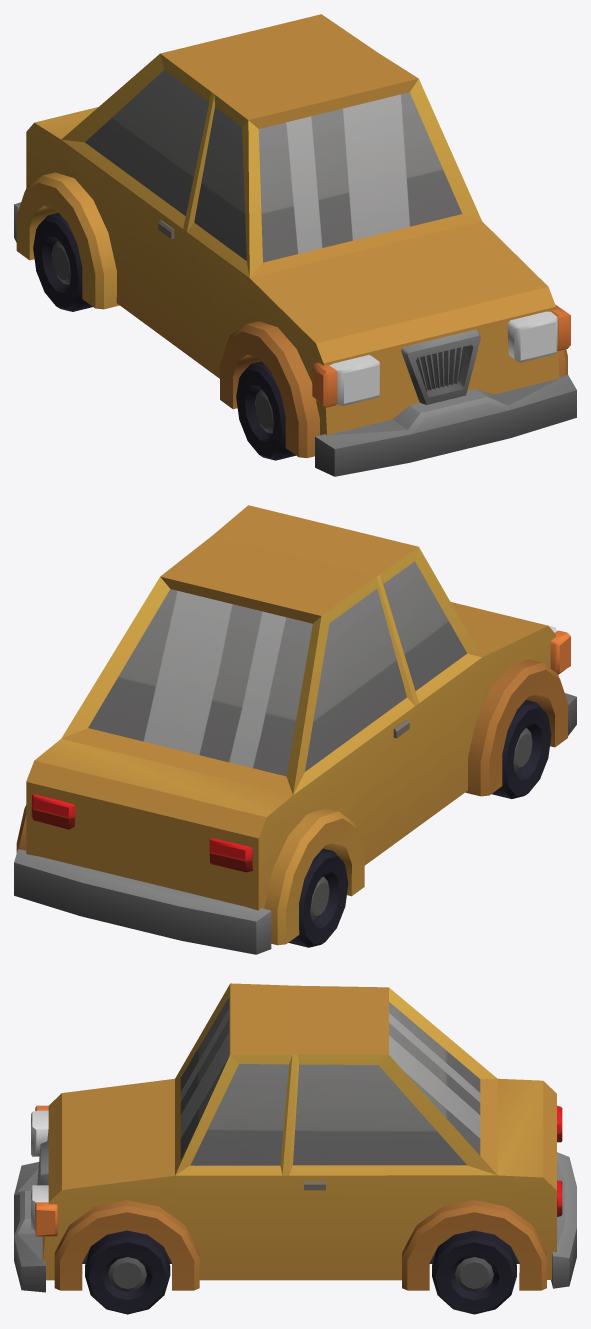
Rendered from Car_4_11.fbx.
3 renders of one model, top to bottom at view 1: azimuth 30°, elevation 25°; view 2: azimuth 150°, elevation 25°; view 3: azimuth 270°, elevation 25°, orthographic. The views are drawn at different scales.
Parts seen in each view (by area): view 1: Car_4_11, BWhel_FR, BWhel_BR; view 2: Car_4_11, BWhel_BR, BWhel_FR; view 3: Car_4_11, BWhel_FL, BWhel_BL.
Boxes of the visible parts, x1,y1,x2,y2 form: Car_4_11: (14, 14, 576, 476); BWhel_FR: (236, 361, 295, 460); BWhel_BR: (33, 212, 92, 311); Car_4_11: (14, 505, 576, 954); BWhel_BR: (288, 848, 348, 947); BWhel_FR: (491, 700, 551, 798); Car_4_11: (14, 983, 576, 1292); BWhel_FL: (85, 1230, 170, 1314); BWhel_BL: (432, 1230, 516, 1314).
Bounding box in the file's own units: 109 × 109 × 230.
